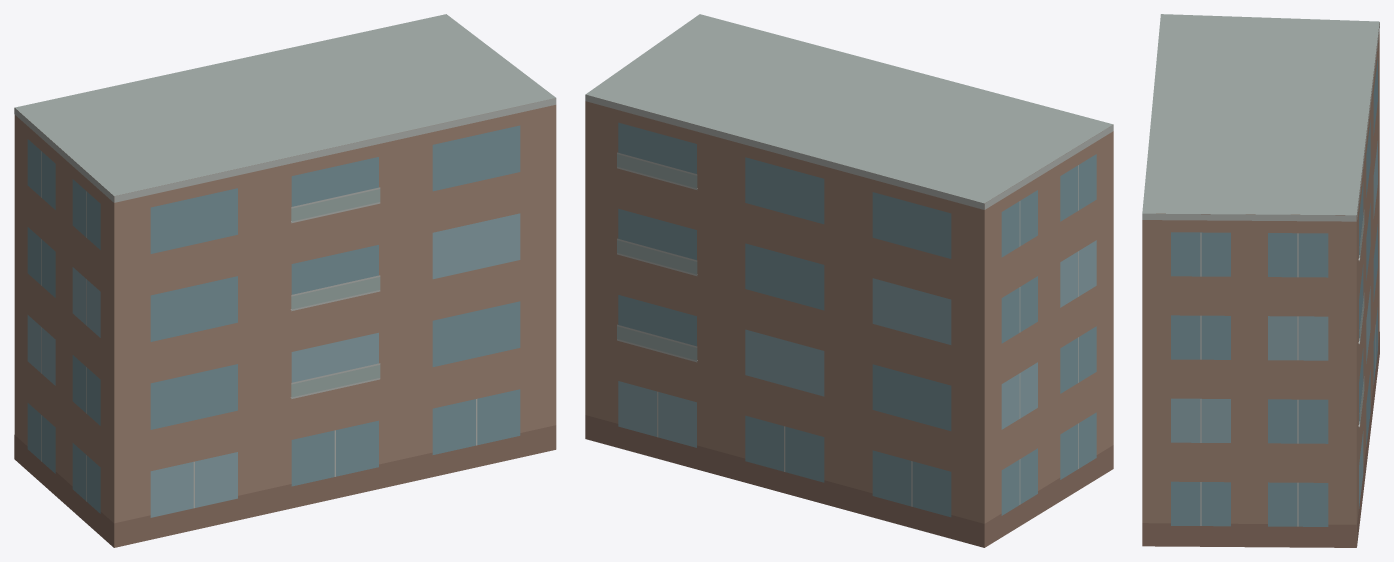
File: survey-upis-33030858.glb
The picture shows the model from 3 angles, left to right: view 1: azimuth 30°, elevation 25°; view 2: azimuth 150°, elevation 25°; view 3: azimuth 270°, elevation 25°; orthographic projection. The views are drawn at different scales.
Visible parts, largest first — view 1: survey-upis-33030858.tmp; view 2: survey-upis-33030858.tmp; view 3: survey-upis-33030858.tmp.
Part boxes in pixels (bbox=[...]): survey-upis-33030858.tmp: bbox=[14, 14, 556, 547]; survey-upis-33030858.tmp: bbox=[585, 14, 1113, 547]; survey-upis-33030858.tmp: bbox=[1142, 14, 1379, 547].
Bounding box in the file's own units: 16.48 × 12.7 × 8.23.
